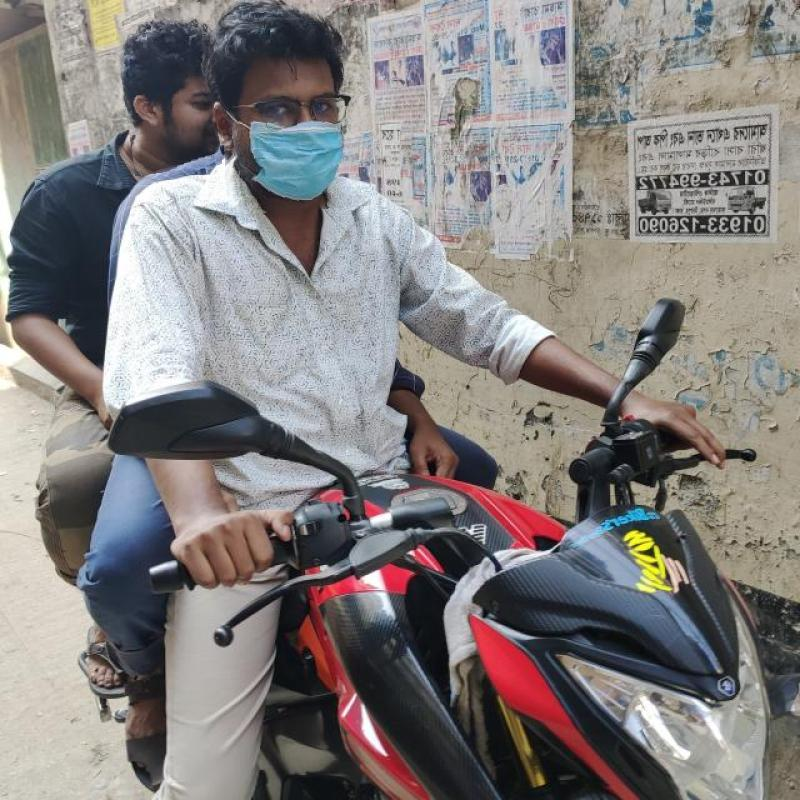nohelmet: (217, 2, 374, 212), (118, 5, 217, 174)
